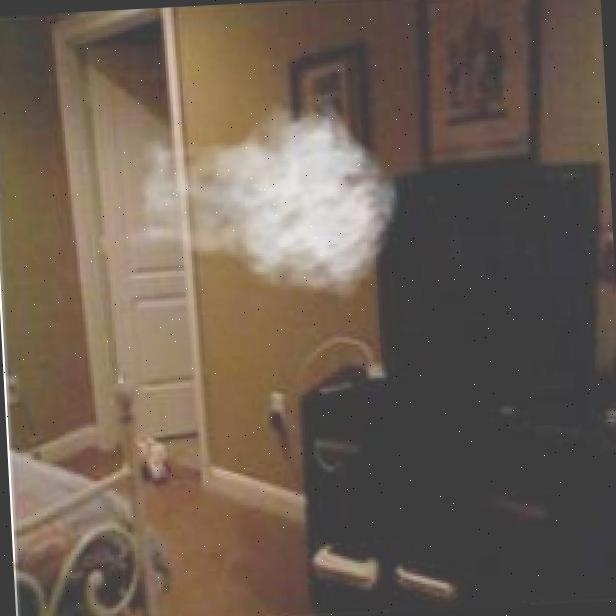smoke: (115, 90, 405, 310)
